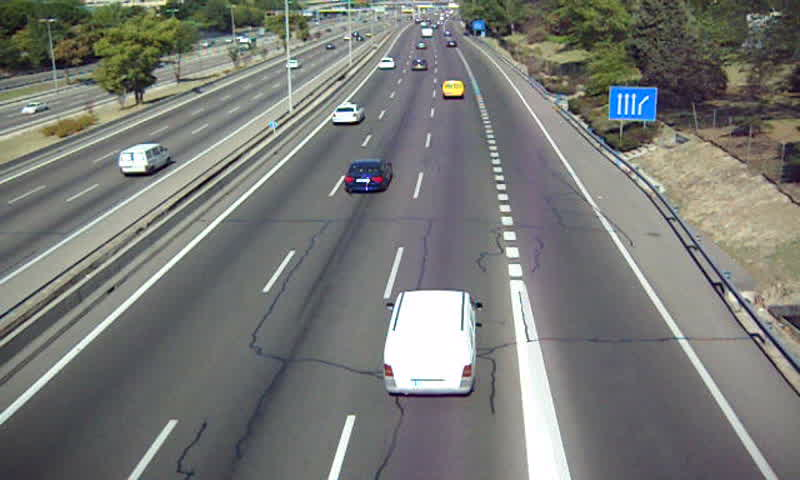car: (344, 160, 391, 194), (330, 104, 365, 126), (410, 58, 428, 71), (377, 57, 394, 70)
van: (383, 290, 477, 396), (442, 80, 464, 99)
